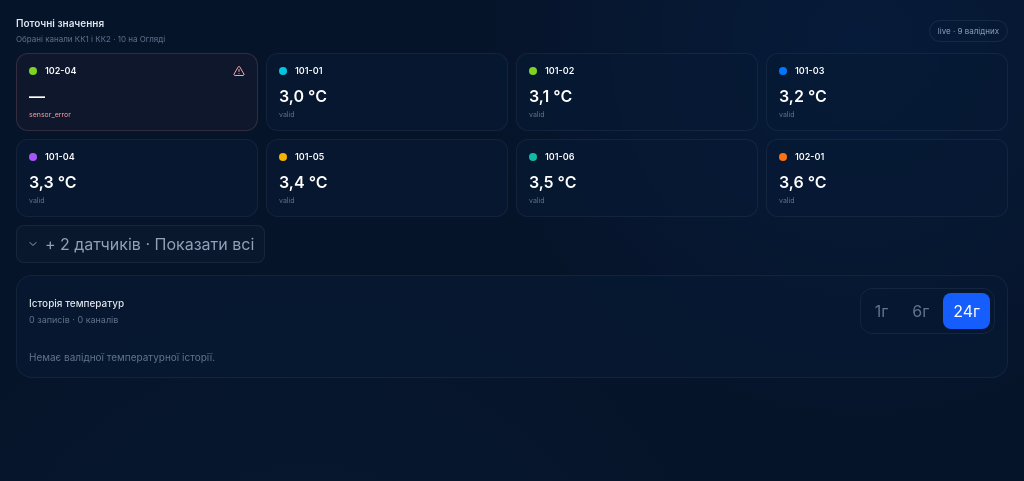
Scenario: TemperatureChart live discovery › bounds many live values by default and expands only on operator request
Expected: the text "Поточні значення" is shown, 16,17 -> 104,29
Expected: the text "101-01" is shown, 295,64 -> 322,78
Click the button "+ 2 датчиків · Показати всі" at (141, 244), box 16,225 -> 265,263
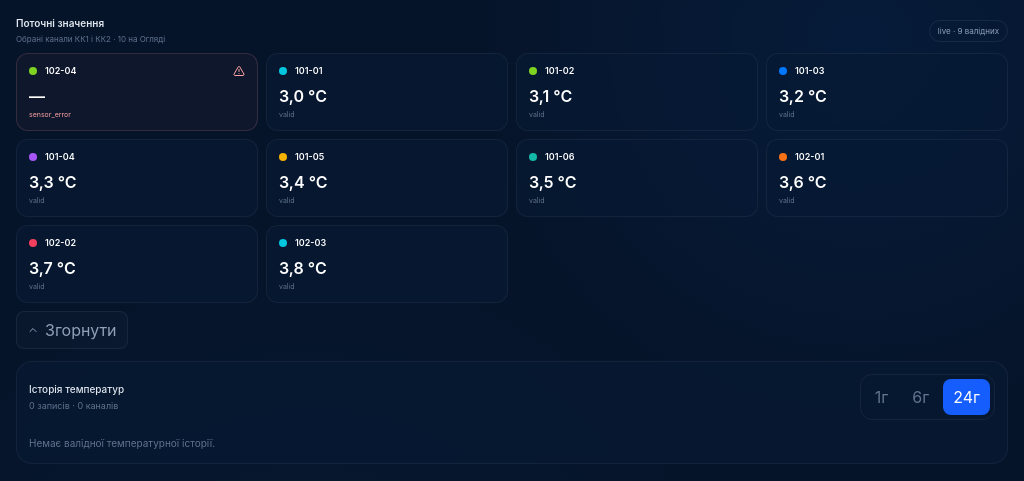
Expected: the text "102-02" is shown, 45,236 -> 76,250
Expected: the text "102-03" is shown, 295,236 -> 326,250
Expected: the button "Згорнути" is expanded, 16,311 -> 128,349
